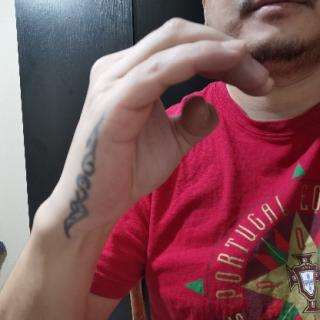JEEM: (31, 12, 285, 239)
